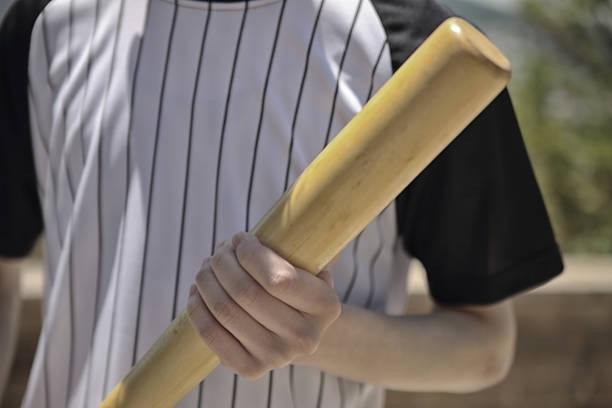bita: (271, 30, 502, 271), (97, 317, 202, 408)
